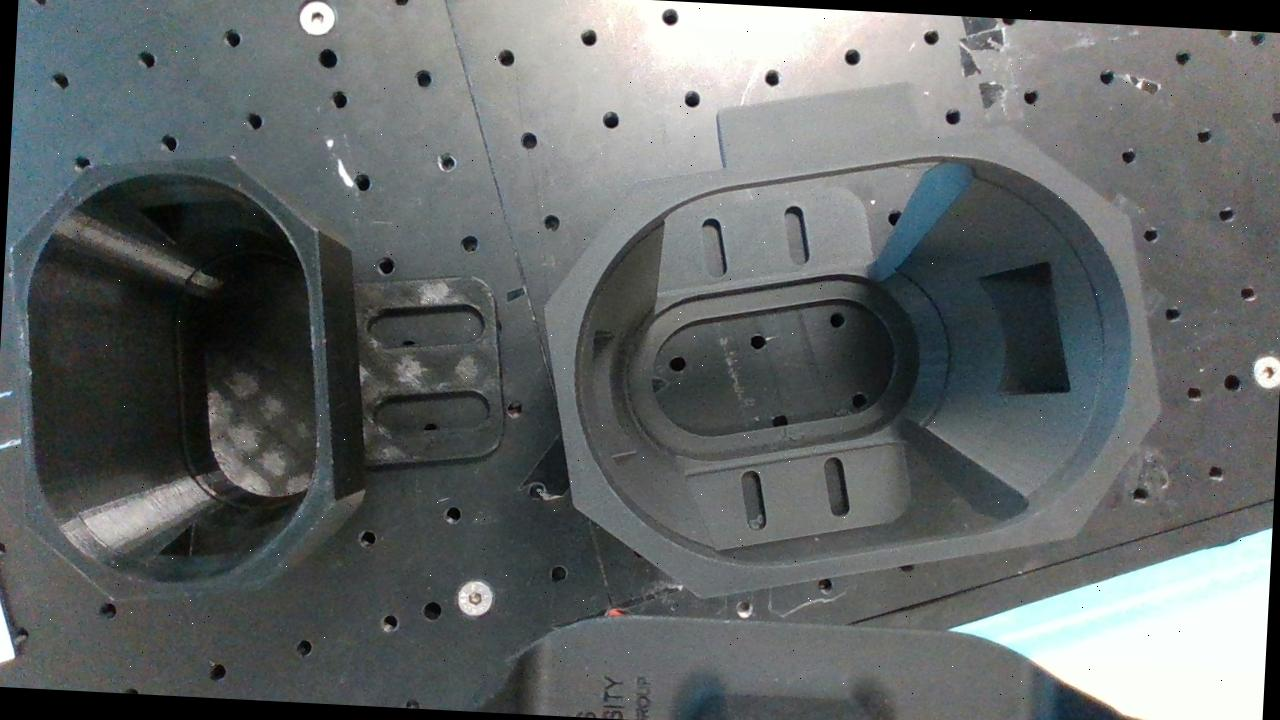big_interface: (526, 101, 1176, 624)
small_interface: (0, 143, 354, 612)
